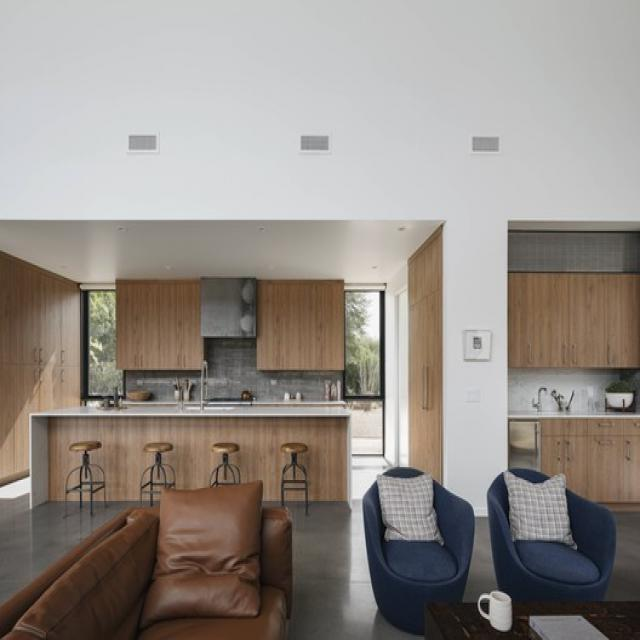couch: (0, 479, 293, 640), (362, 467, 475, 633), (486, 468, 618, 602)
